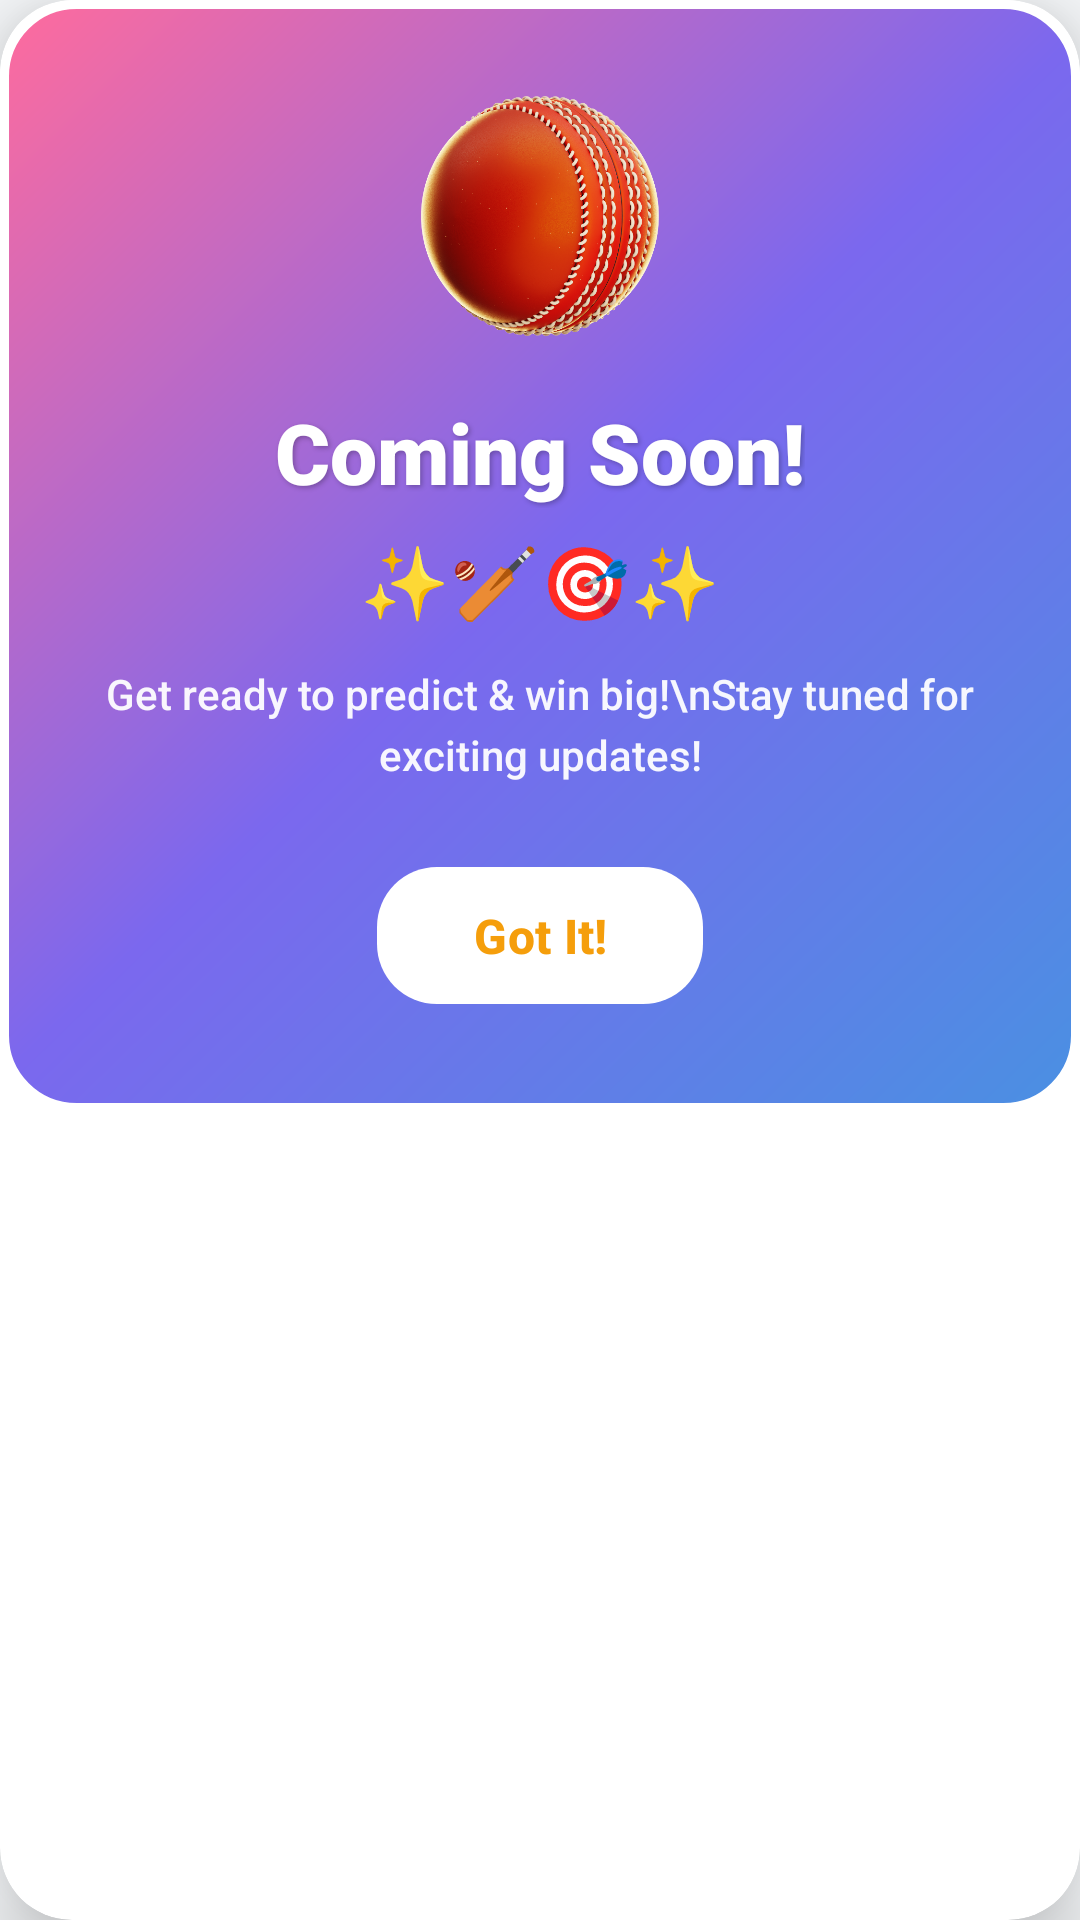

Icons on this 1080px×1920px Android screen, each with the point to tap as point (x, y):
cricket ball: point (539, 216)
